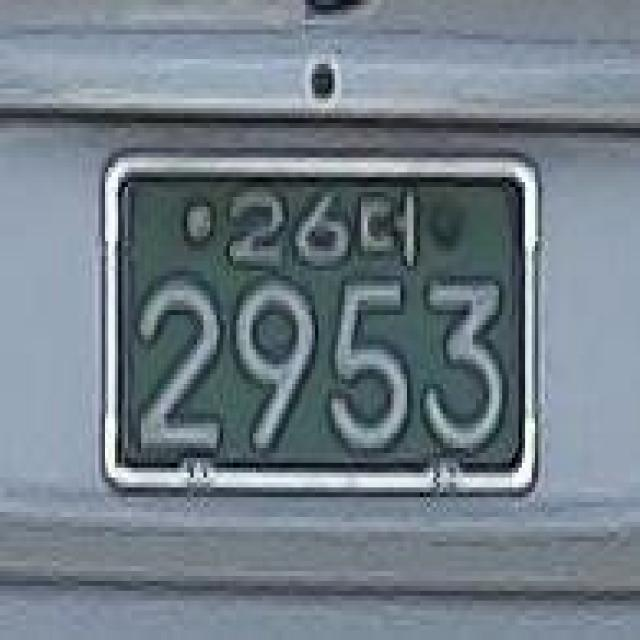illegal_plate: (89, 139, 554, 518)
